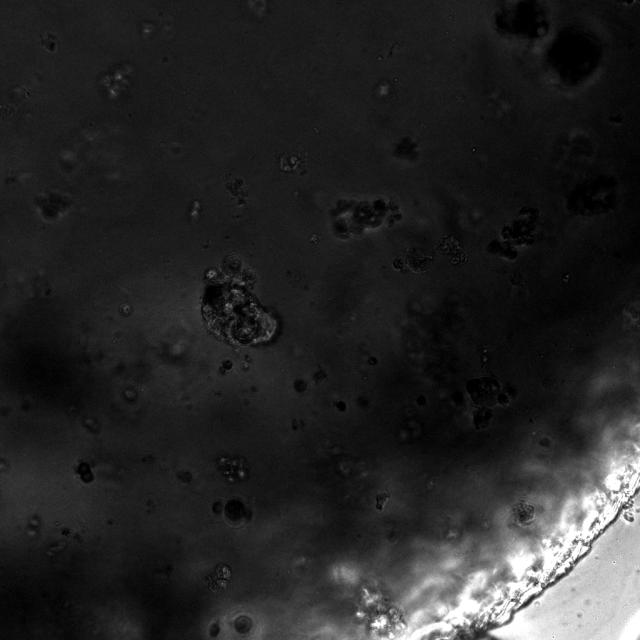organoid: (201, 252, 277, 346), (330, 197, 401, 239), (354, 583, 407, 639), (487, 207, 539, 259), (466, 376, 514, 428), (98, 61, 134, 101), (35, 188, 72, 222), (392, 246, 434, 274), (212, 497, 251, 527), (216, 453, 249, 483), (436, 235, 467, 266), (205, 564, 231, 592), (225, 175, 248, 206), (276, 153, 305, 175), (514, 500, 534, 525), (75, 460, 93, 483), (41, 31, 58, 53), (234, 615, 252, 634), (376, 491, 390, 510), (118, 302, 132, 317), (219, 359, 232, 374), (209, 621, 220, 637), (294, 379, 307, 391), (334, 400, 346, 411)
